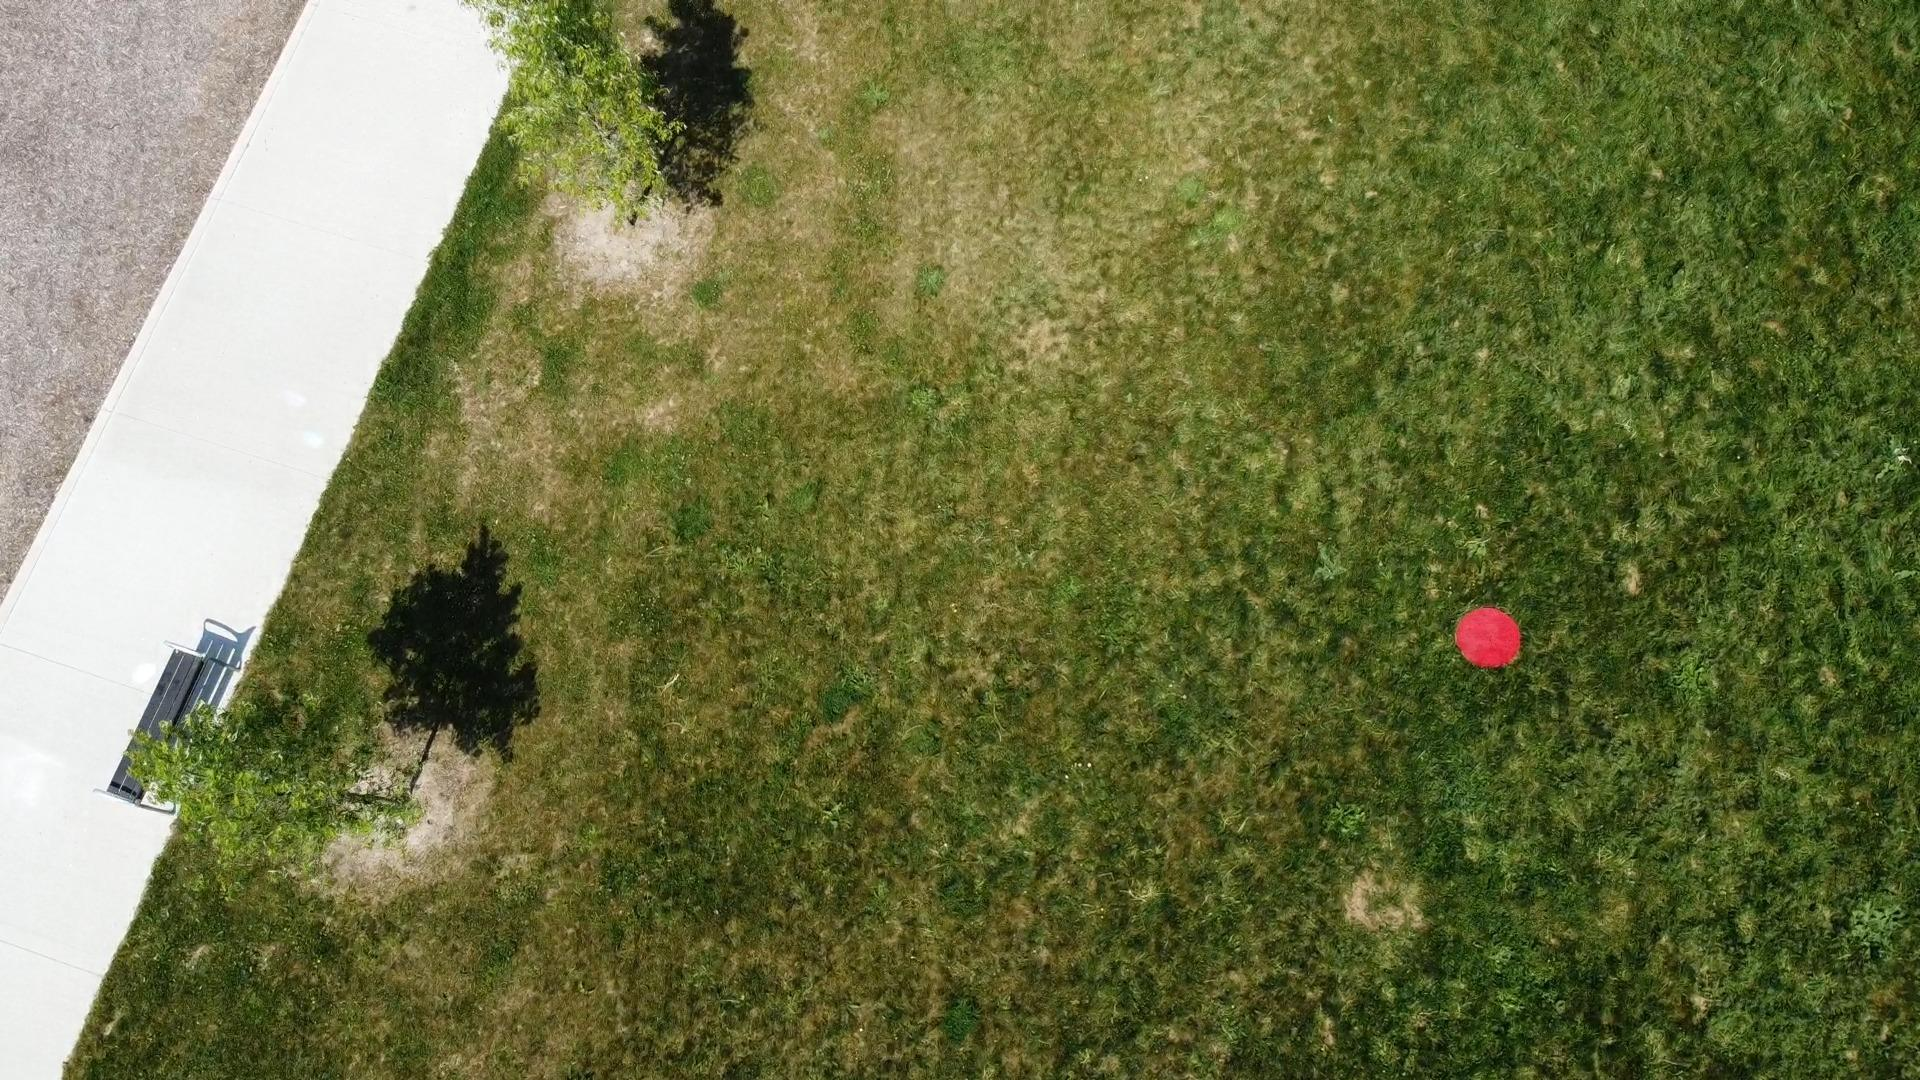Red: (1452, 603, 1524, 671)
